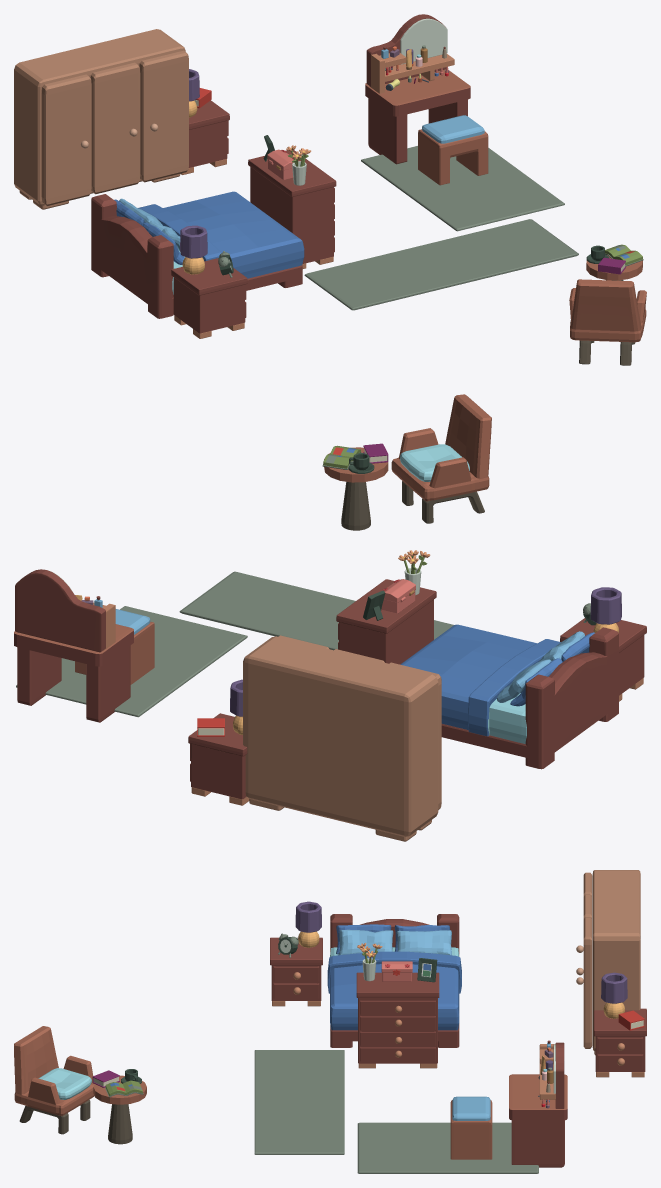
The model's file is AllBedroomAssets 1.fbx.
The picture shows the model from 3 angles, top to bottom: view 1: azimuth 30°, elevation 25°; view 2: azimuth 150°, elevation 25°; view 3: azimuth 270°, elevation 25°; orthographic projection. The views are drawn at different scales.
Parts seen in each view (by area): view 1: Bedroom_BigDrawer, Bedroom_Bed, Bedroom_LongCarped, Bedroom_BeautyTable, Bedroom_Carped_short, Bedroom_drawer, Bedroom_bedstand_2, Bedroom_Chair, Bedroom_lilChair, Bedroom_bedstand_1, Bedroom_lilTable; view 2: Bedroom_BigDrawer, Bedroom_Bed, Bedroom_BeautyTable, Bedroom_Chair, Bedroom_LongCarped, Bedroom_drawer, Bedroom_Carped_short, Bedroom_bedstand_1, Bedroom_bedstand_2, Bedroom_lilTable, Bedroom_lilChair; view 3: Bedroom_Bed, Bedroom_LongCarped, Bedroom_drawer, Bedroom_BigDrawer, Bedroom_Carped_short, Bedroom_BeautyTable, Bedroom_Chair, Bedroom_bedstand_2, Bedroom_bedstand_1, Bedroom_lilChair, Bedroom_lilTable.
Part boxes in pixels (x1=…): Bedroom_BigDrawer: x1=14, y1=29, x2=188, y2=209; Bedroom_Bed: x1=91, y1=191, x2=304, y2=318; Bedroom_LongCarped: x1=304, y1=219, x2=578, y2=310; Bedroom_BeautyTable: x1=365, y1=14, x2=470, y2=164; Bedroom_Carped_short: x1=361, y1=146, x2=564, y2=231; Bedroom_drawer: x1=248, y1=135, x2=336, y2=268; Bedroom_bedstand_2: x1=171, y1=225, x2=247, y2=338; Bedroom_Chair: x1=569, y1=279, x2=646, y2=365; Bedroom_lilChair: x1=418, y1=115, x2=488, y2=185; Bedroom_bedstand_1: x1=180, y1=69, x2=229, y2=174; Bedroom_lilTable: x1=586, y1=244, x2=643, y2=280; Bedroom_BigDrawer: x1=243, y1=635, x2=441, y2=841; Bedroom_Bed: x1=400, y1=624, x2=618, y2=769; Bedroom_BeautyTable: x1=14, y1=569, x2=133, y2=722; Bedroom_Chair: x1=391, y1=394, x2=491, y2=523; Bedroom_LongCarped: x1=179, y1=571, x2=453, y2=650; Bedroom_drawer: x1=336, y1=550, x2=436, y2=664; Bedroom_Carped_short: x1=16, y1=606, x2=247, y2=717; Bedroom_bedstand_1: x1=188, y1=679, x2=249, y2=805; Bedroom_bedstand_2: x1=560, y1=587, x2=646, y2=701; Bedroom_lilTable: x1=322, y1=443, x2=388, y2=530; Bedroom_lilChair: x1=75, y1=609, x2=154, y2=684; Bedroom_Bed: x1=327, y1=914, x2=461, y2=1047; Bedroom_LongCarped: x1=254, y1=1050, x2=344, y2=1154; Bedroom_drawer: x1=356, y1=943, x2=439, y2=1068; Bedroom_BigDrawer: x1=576, y1=870, x2=640, y2=1055; Bedroom_Carped_short: x1=357, y1=1122, x2=538, y2=1173; Bedroom_BeautyTable: x1=509, y1=1040, x2=567, y2=1167; Bedroom_Chair: x1=14, y1=1026, x2=94, y2=1134; Bedroom_bedstand_2: x1=270, y1=901, x2=322, y2=1006; Bedroom_bedstand_1: x1=594, y1=972, x2=646, y2=1077; Bedroom_lilChair: x1=450, y1=1096, x2=492, y2=1159; Bedroom_lilTable: x1=92, y1=1069, x2=146, y2=1144.
Bounding box in the file's own units: 625 × 185 × 865.
